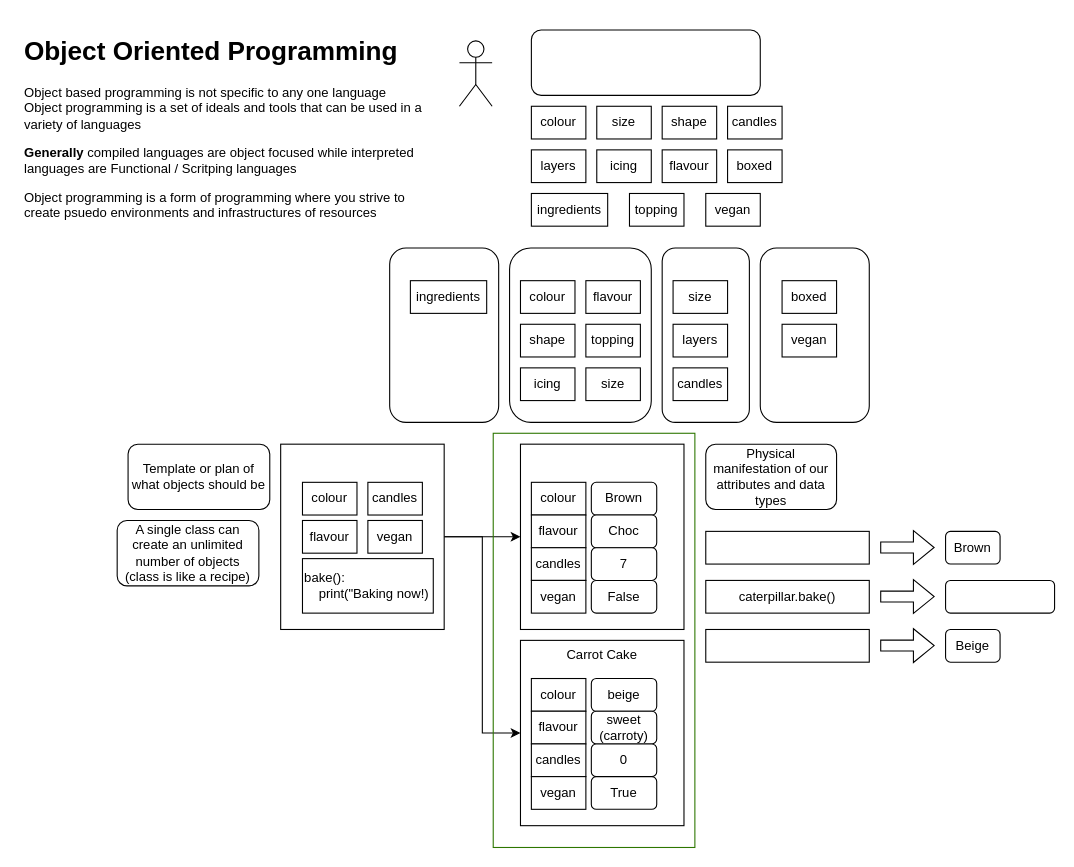
The diagram is 1074 pixels wide and 867 high, and some of its shapes have lost their labels. The shapes that lost their labels are listed below. From the top down, each one's box as (x1, y1, x2, y2) in pixels, then its label:
(458, 40, 492, 106): Actor
(530, 29, 760, 95): What terms can you use to define the attributes of a cake?
(389, 247, 499, 422): List [String]
(508, 247, 651, 422): Strings
(661, 247, 749, 422): Int
(759, 247, 869, 422): Boolean
(280, 443, 444, 629): Cake Class
(519, 443, 684, 629): Caterpillar cake - Object
(705, 530, 869, 564): print(caterpillar.colour)
(944, 579, 1055, 613): Print to console "Baking now"
(492, 432, 695, 847): Array of Cakes
(705, 628, 869, 662): print(carrot.colour)
